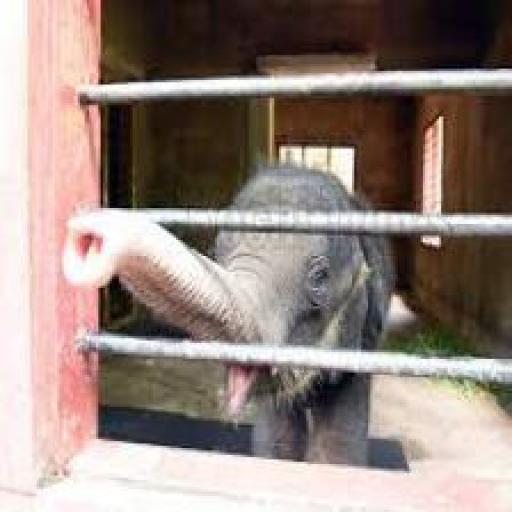Elephant: (30, 18, 465, 469)
